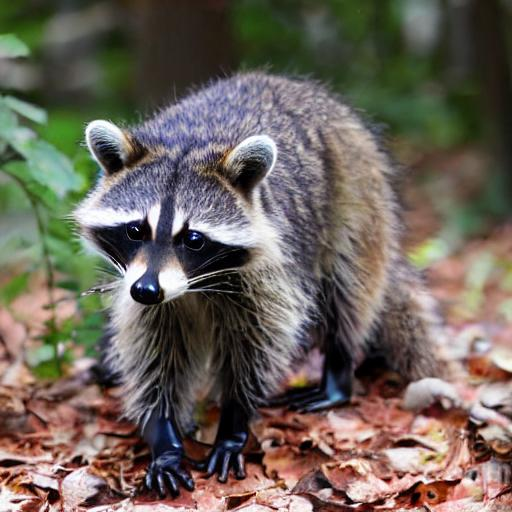raccoon: (67, 57, 453, 474)
